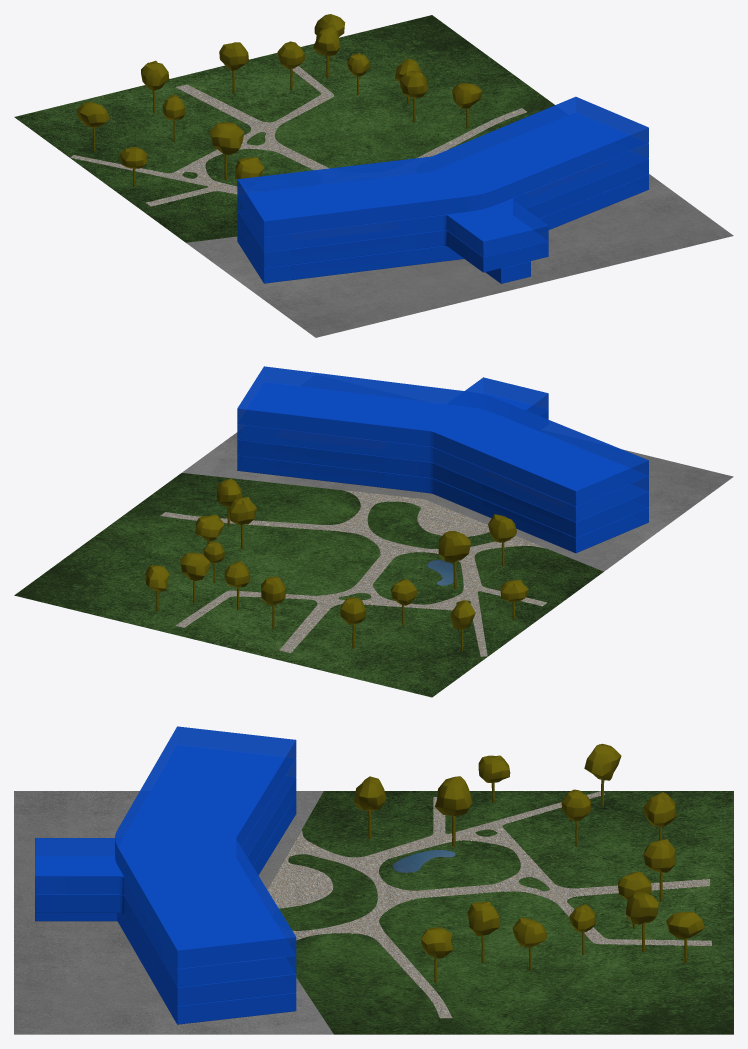
3 renders of one model, top to bottom at view 1: azimuth 30°, elevation 25°; view 2: azimuth 150°, elevation 25°; view 3: azimuth 270°, elevation 25°, orthographic. The views are drawn at different scales.
Parts seen in each view (by area): view 1: park, floor_3, building_base, floor_2, floor_1, floor_0, paths_Retopo, tree010, tree007, tree012, tree008, tree005 (+6 smaller); view 2: park, floor_3, paths_Retopo, building_base, floor_2, floor_1, floor_0, tree010, tree01, tree013, tree005, tree007 (+8 smaller); view 3: park, floor_3, building_base, paths_Retopo, floor_2, floor_1, floor_0, tree010, tree012, tree005, tree007, tree013 (+10 smaller).
Part boxes in pixels (bbox=[...]): park: bbox=[14, 15, 554, 242]; floor_3: bbox=[237, 96, 648, 236]; building_base: bbox=[186, 174, 733, 337]; floor_2: bbox=[237, 143, 648, 256]; floor_1: bbox=[237, 158, 648, 272]; floor_0: bbox=[237, 174, 648, 283]; paths_Retopo: bbox=[70, 66, 526, 206]; tree010: bbox=[209, 122, 244, 180]; tree007: bbox=[219, 42, 248, 93]; tree012: bbox=[77, 102, 109, 151]; tree008: bbox=[141, 60, 169, 113]; tree005: bbox=[400, 70, 427, 122]; park: bbox=[14, 473, 603, 697]; floor_3: bbox=[237, 366, 648, 506]; paths_Retopo: bbox=[160, 490, 547, 656]; building_base: bbox=[182, 432, 733, 571]; floor_2: bbox=[237, 377, 648, 521]; floor_1: bbox=[237, 409, 648, 537]; floor_0: bbox=[237, 455, 648, 553]; tree010: bbox=[438, 531, 470, 588]; tree01: bbox=[180, 552, 210, 602]; tree013: bbox=[488, 514, 516, 566]; tree005: bbox=[229, 497, 256, 548]; tree007: bbox=[261, 576, 285, 629]; park: bbox=[279, 791, 733, 1034]; floor_3: bbox=[115, 726, 296, 968]; building_base: bbox=[14, 791, 333, 1034]; paths_Retopo: bbox=[267, 791, 711, 1018]; floor_2: bbox=[35, 759, 296, 987]; floor_1: bbox=[35, 777, 296, 1005]; floor_0: bbox=[35, 796, 296, 1024]; tree010: bbox=[435, 776, 472, 846]; tree012: bbox=[584, 743, 621, 806]; tree005: bbox=[467, 901, 499, 963]; tree007: bbox=[644, 839, 675, 901]; tree013: bbox=[354, 776, 386, 838].
Bounding box in the file's own units: 2.8 × 0.4008 × 3.5.
Materials: 7 (6 with a texture image).
